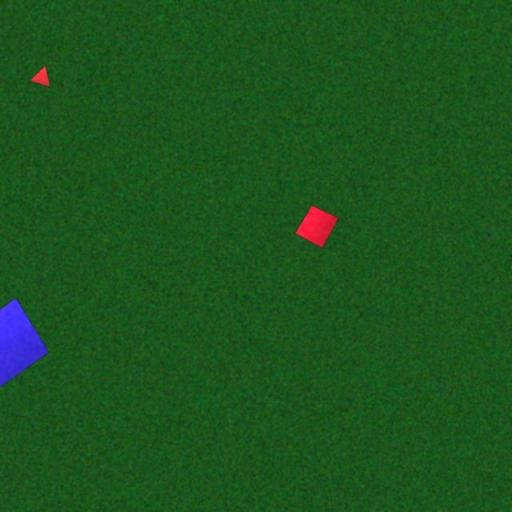BLUE_SQUARE: (0, 297, 50, 389)
RED_SQUARE: (294, 205, 340, 249)
